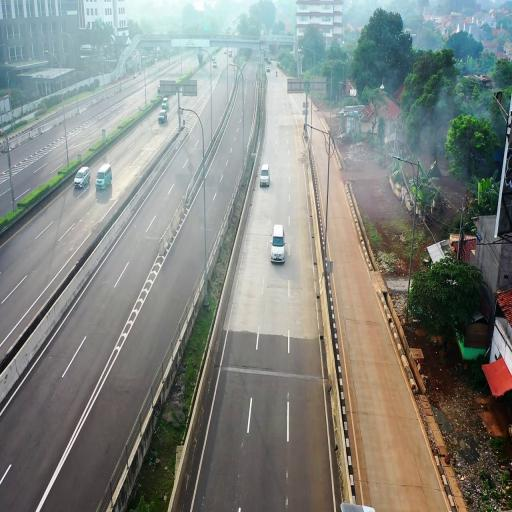vehicle: (271, 224, 287, 264), (74, 167, 90, 193), (158, 100, 169, 125), (260, 166, 270, 188)
